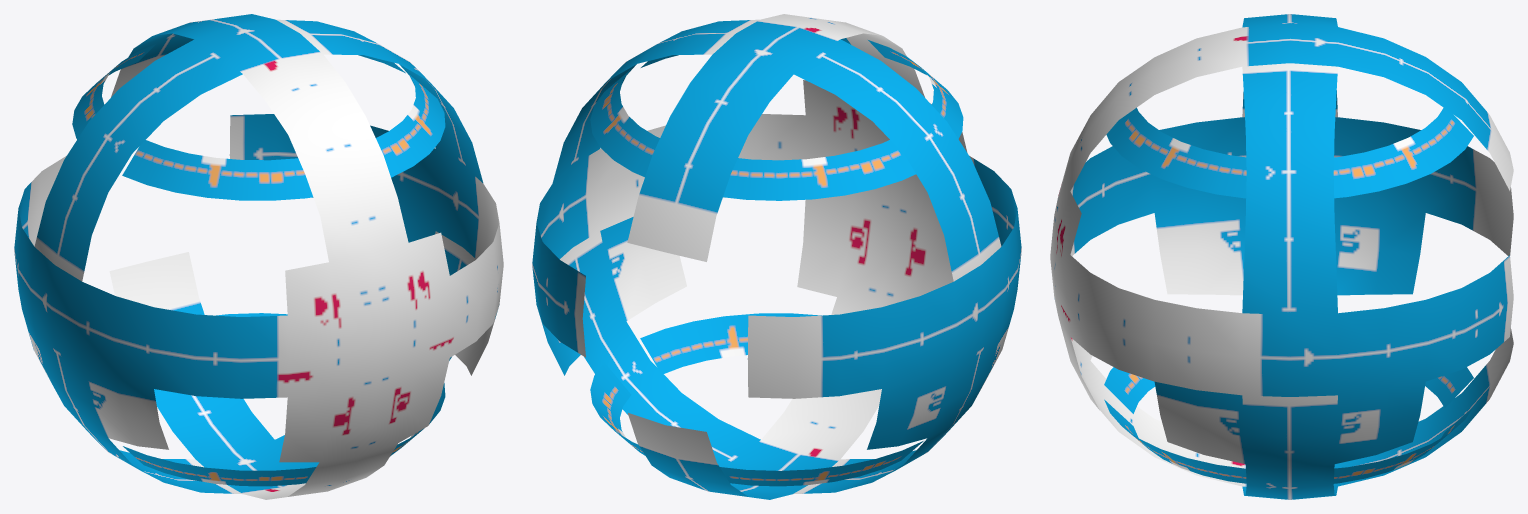
The model's file is vr_camera_navigation.fbx.
3 renders of one model, left to right at view 1: azimuth 30°, elevation 25°; view 2: azimuth 150°, elevation 25°; view 3: azimuth 270°, elevation 25°, orthographic.
Visible parts, largest first — view 1: vr_camera_navigation; view 2: vr_camera_navigation; view 3: vr_camera_navigation.
Part boxes in pixels (bbox=[...]): vr_camera_navigation: bbox=[14, 14, 503, 499]; vr_camera_navigation: bbox=[532, 14, 1021, 499]; vr_camera_navigation: bbox=[1050, 14, 1513, 499].
Bounding box in the file's own units: 84.92 × 84.92 × 82.02.
1 material, 1 textured.
